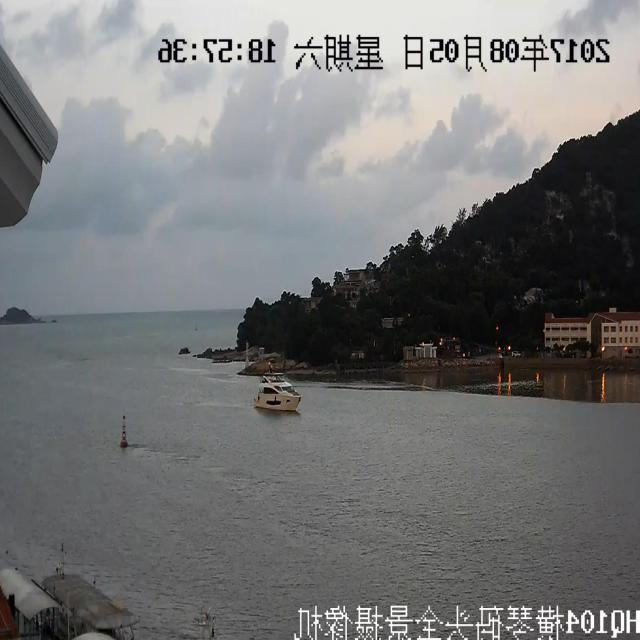buoy: (110, 411, 130, 451)
passenger ship: (254, 359, 307, 409)
reef: (0, 286, 43, 331)
